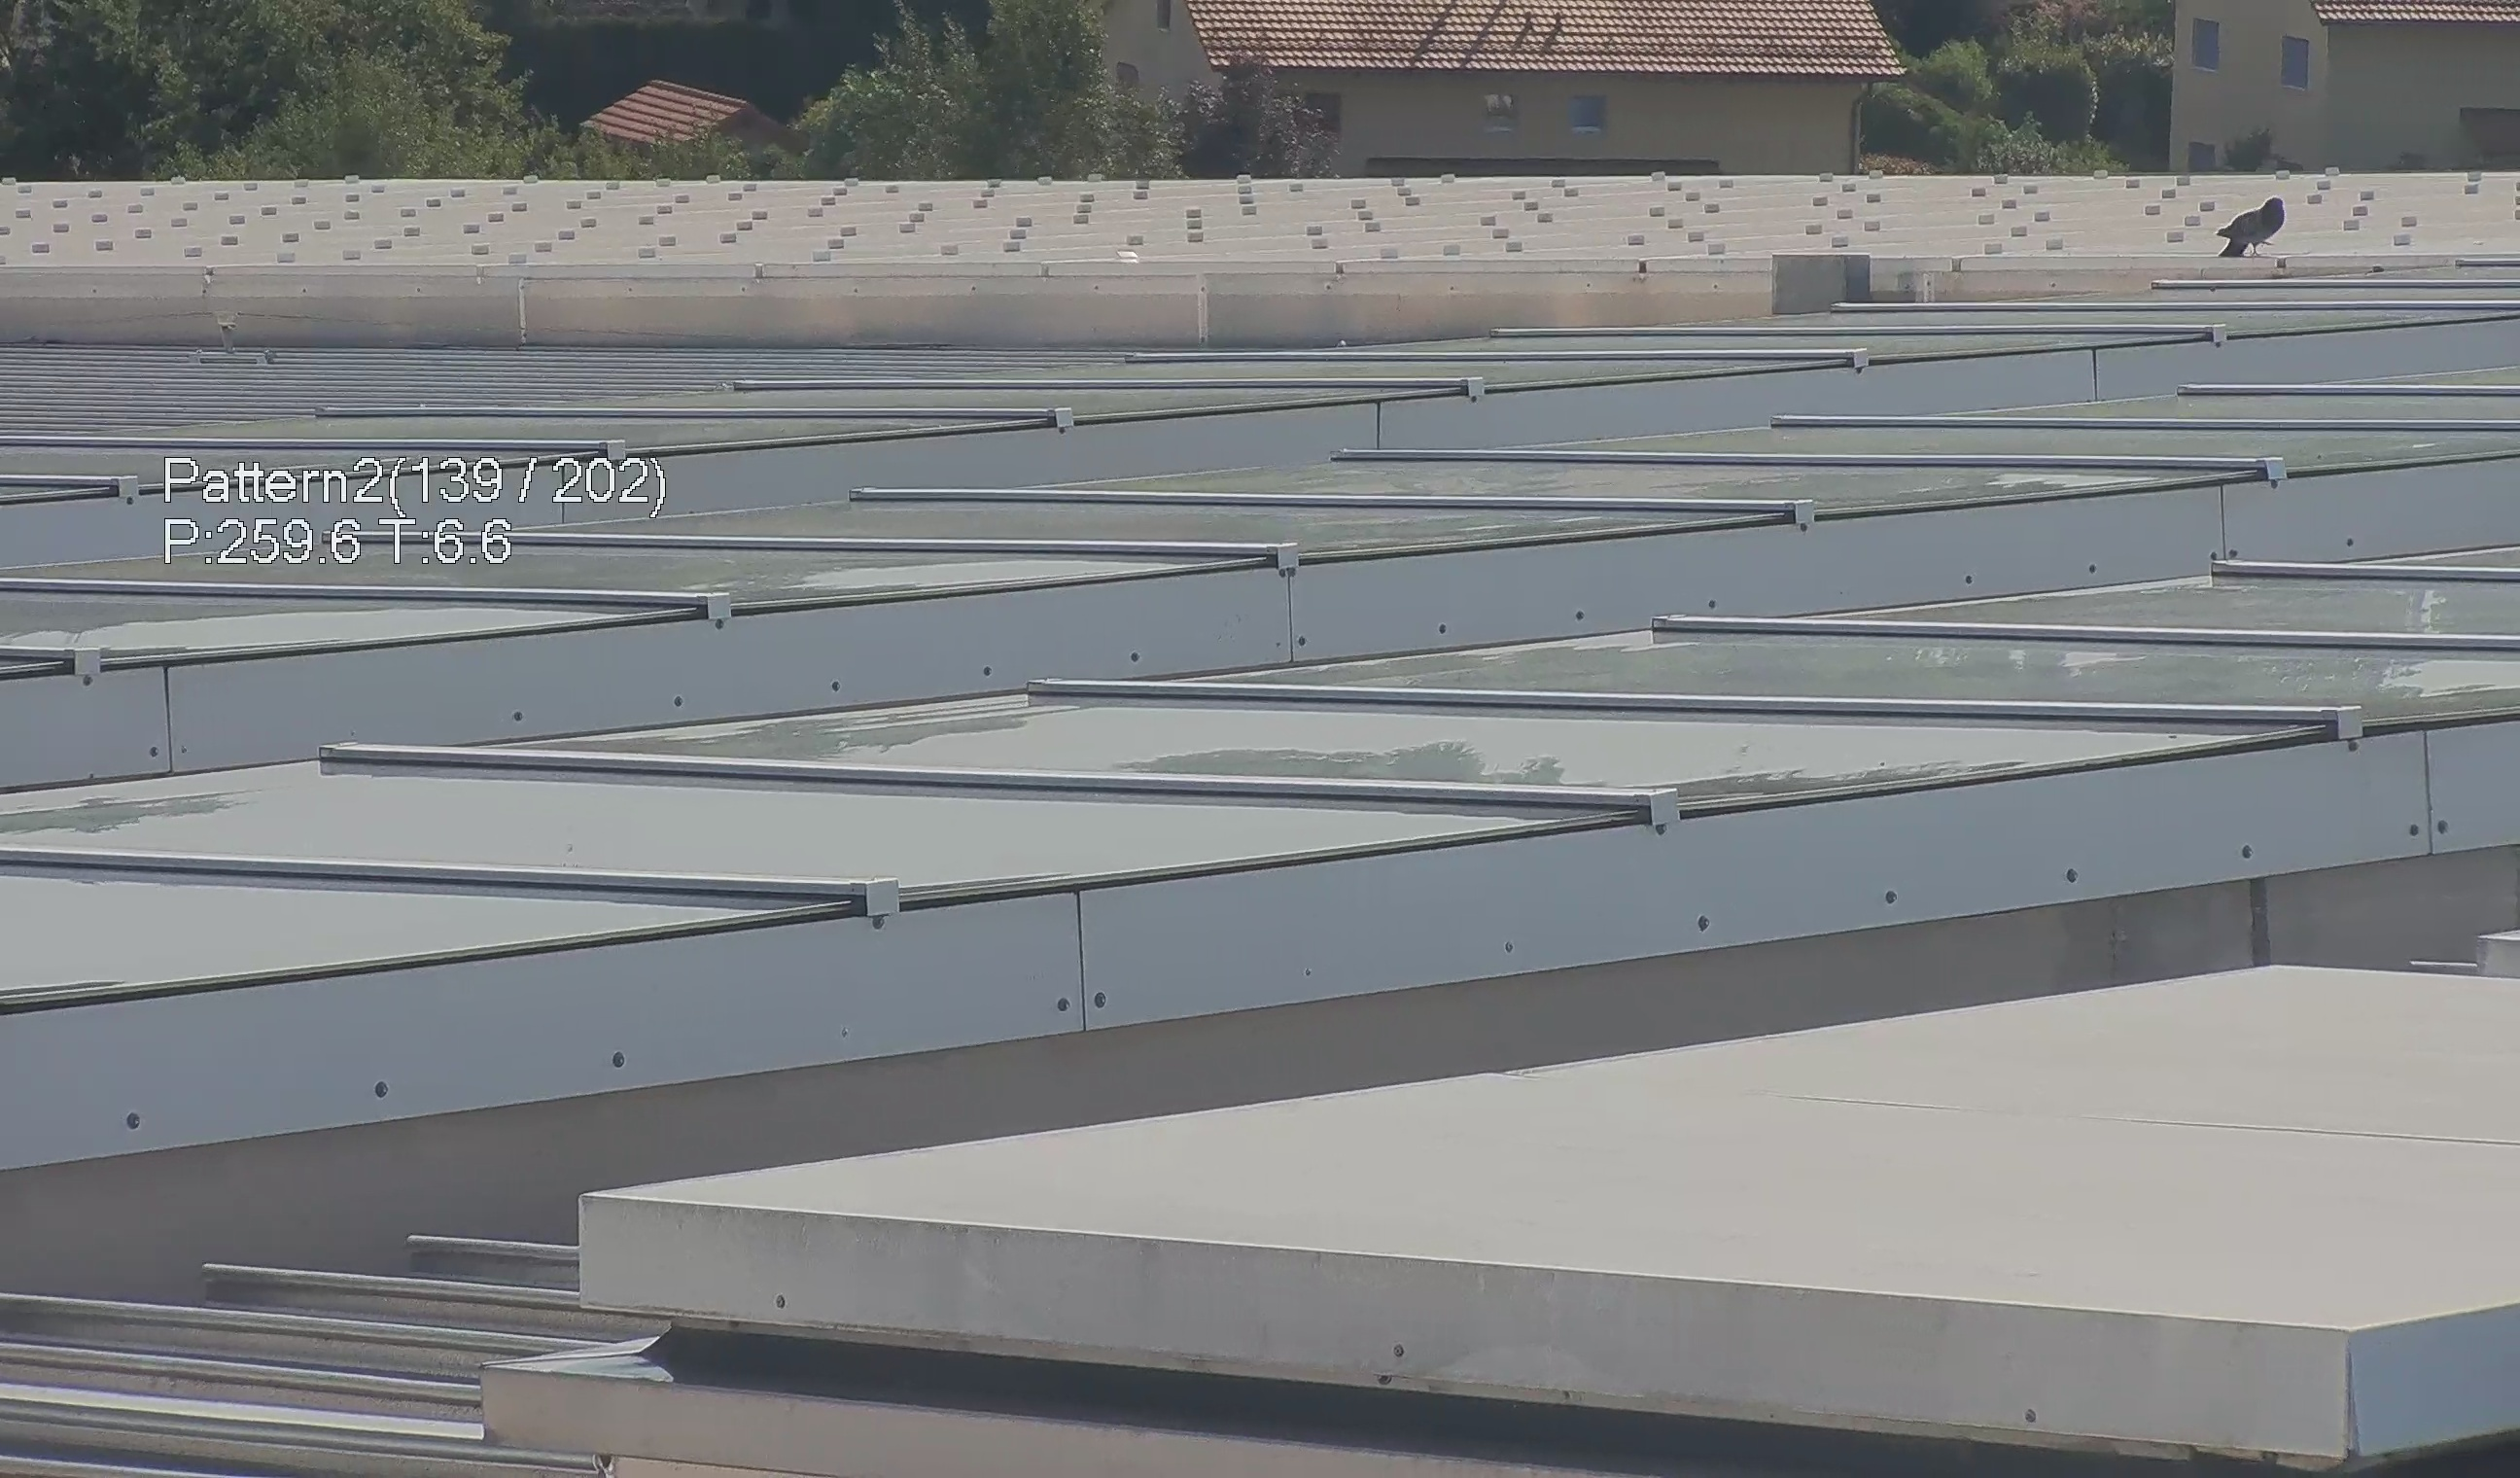Pigeon: (2216, 181, 2297, 262)
